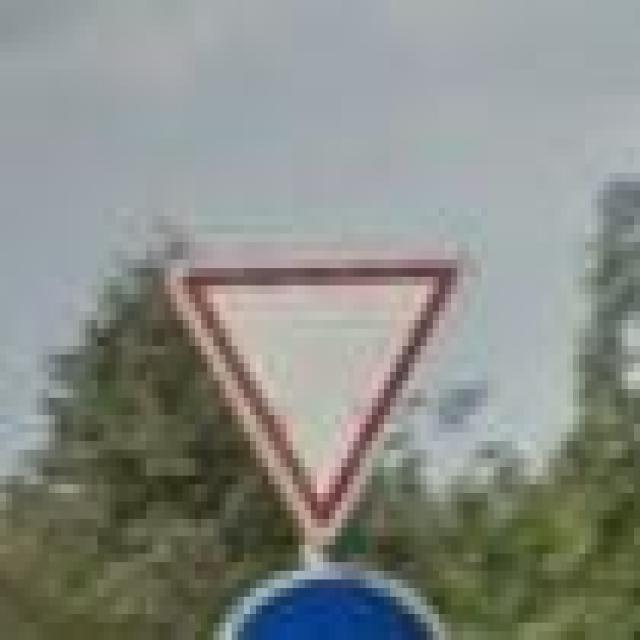traffic_sign: (164, 251, 470, 545)
